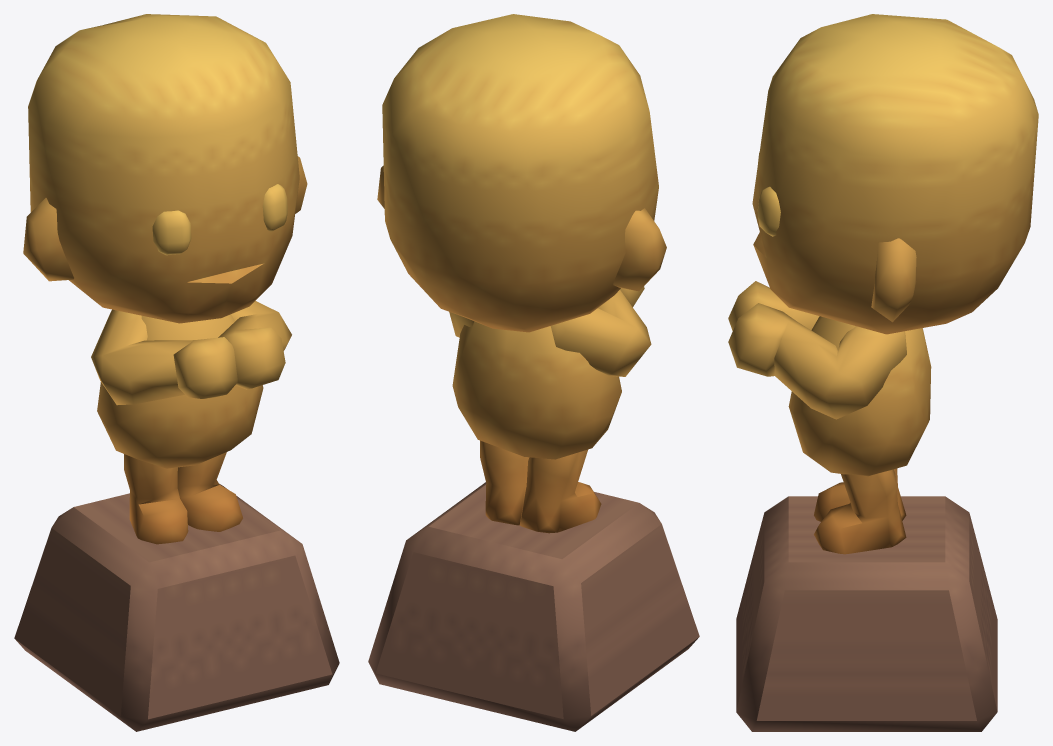
The model's file is idol-a.glb.
3 renders of one model, left to right at view 1: azimuth 30°, elevation 25°; view 2: azimuth 150°, elevation 25°; view 3: azimuth 270°, elevation 25°, orthographic. The views are drawn at different scales.
Visible parts, largest first — view 1: idol_A; view 2: idol_A; view 3: idol_A.
Part boxes in pixels (x1,y1,x2,y2): idol_A: [14, 14, 339, 731]; idol_A: [368, 14, 699, 731]; idol_A: [728, 14, 1038, 731].
Bounding box in the file's own units: 0.3896 × 0.8451 × 0.3677.
1 material, 1 textured.
